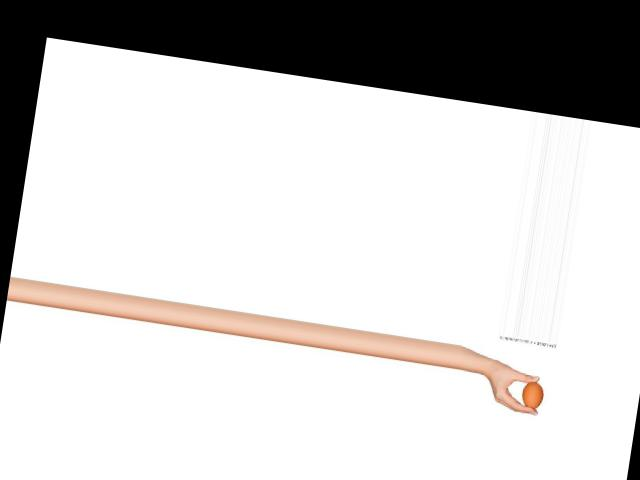egg: (521, 379, 545, 411)
